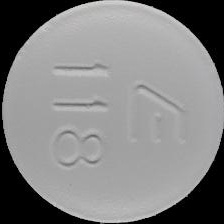68001-206: (0, 0, 224, 224)
